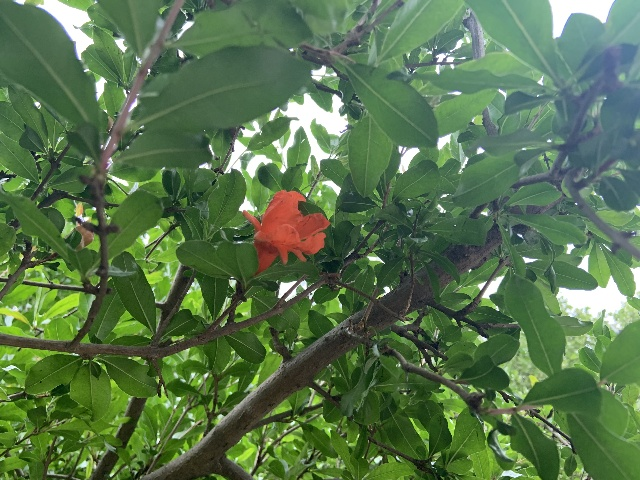flower: (241, 190, 330, 275)
